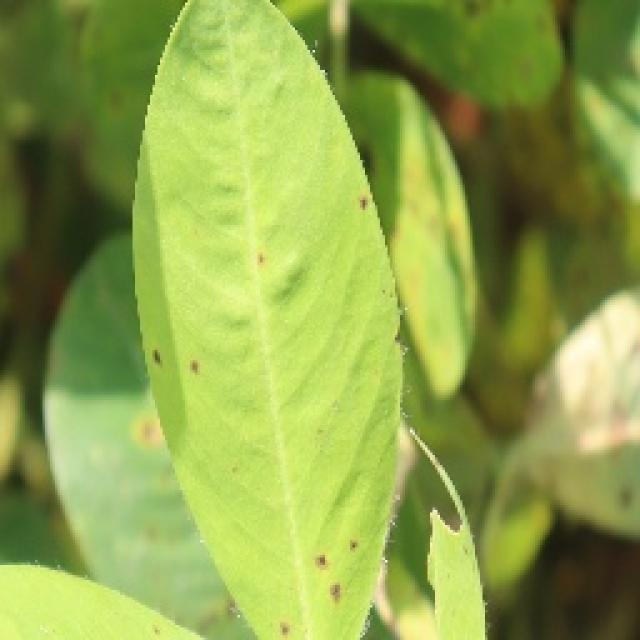Early_leaf_spot: (301, 514, 379, 618), (139, 340, 222, 390), (230, 237, 277, 293), (344, 178, 381, 246), (268, 602, 310, 640)
